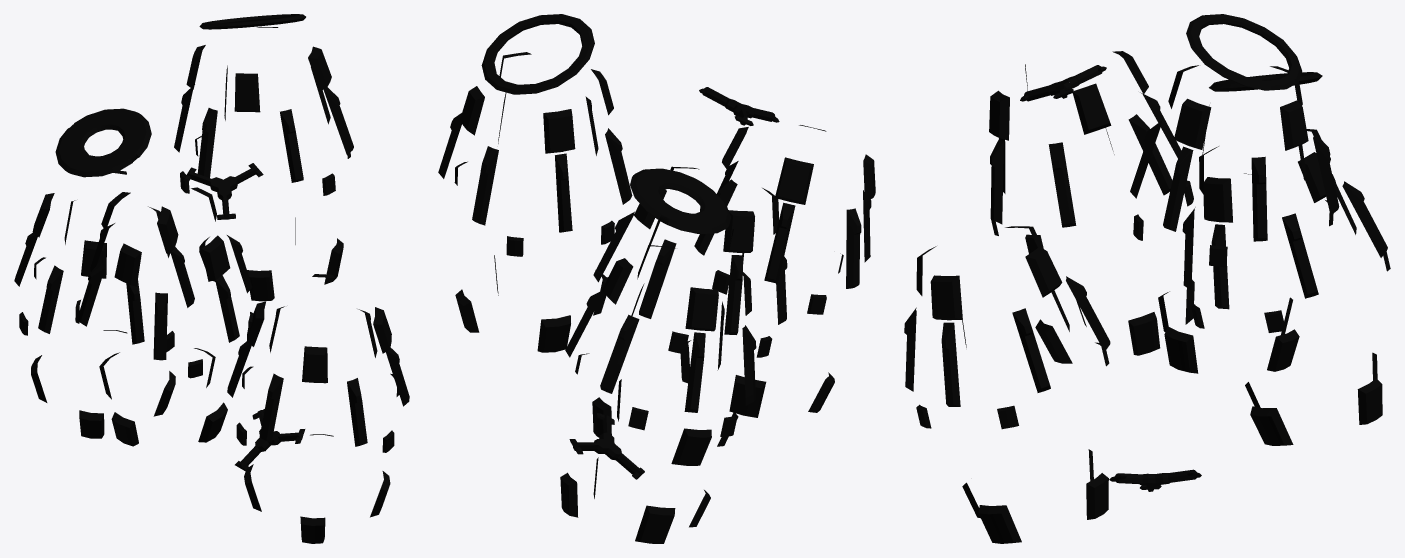
The model's file is prop_static_yao_container_02_08.glb.
The picture shows the model from 3 angles, left to right: view 1: azimuth 30°, elevation 25°; view 2: azimuth 150°, elevation 25°; view 3: azimuth 270°, elevation 25°; orthographic projection. The views are drawn at different scales.
Parts seen in each view (by area): view 1: yao_container_02_08_LOD0; view 2: yao_container_02_08_LOD0; view 3: yao_container_02_08_LOD0.
Part boxes in pixels (x1,y1,x2,y2): yao_container_02_08_LOD0: (14, 14, 409, 543); yao_container_02_08_LOD0: (438, 14, 875, 543); yao_container_02_08_LOD0: (904, 14, 1390, 543).
Size of what is drawn, in the model's own units: 2.81 by 3.75 by 3.22.
Materials: 1 (1 with a texture image).
